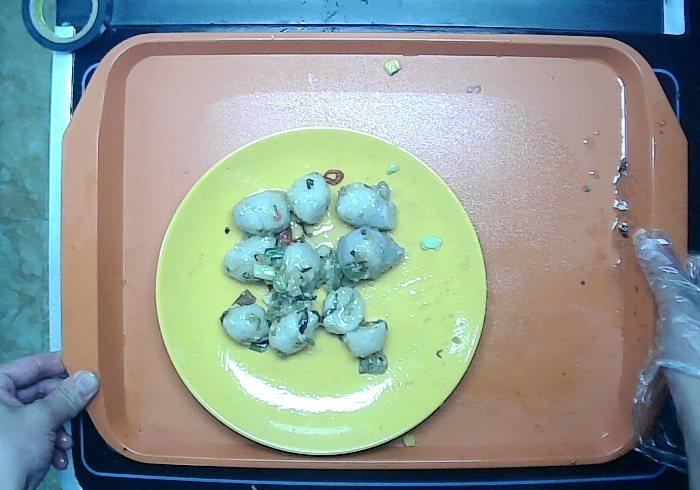HZYJPL-Huang_Se_Yuan_Pan: (152, 125, 489, 456)
